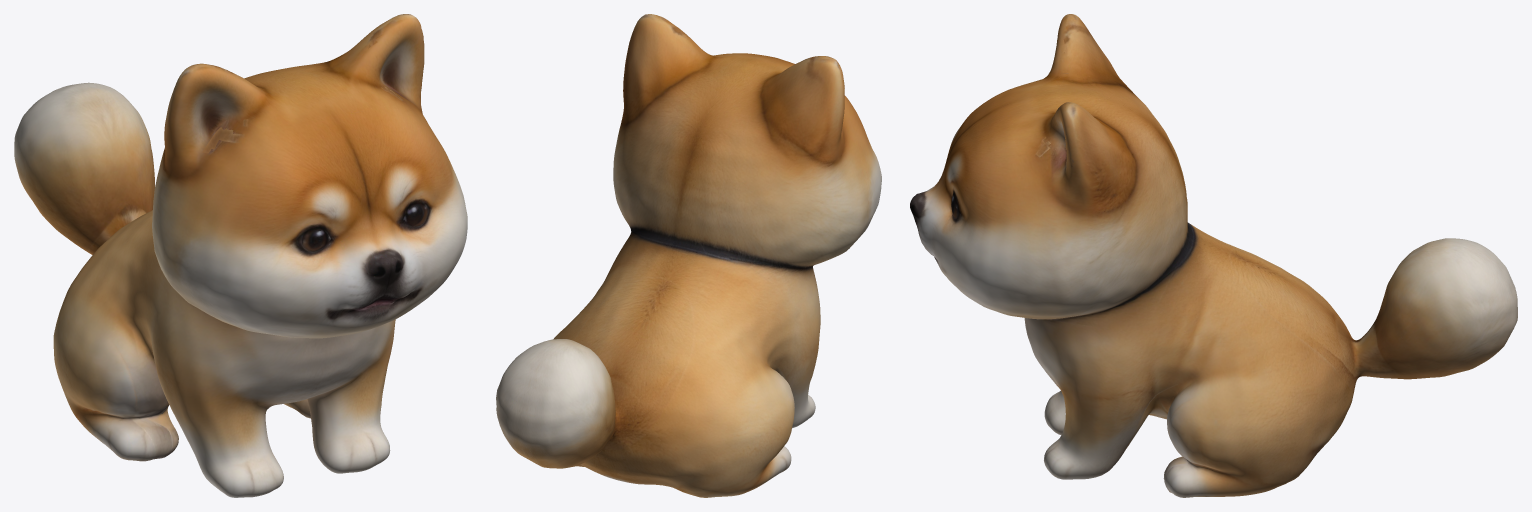
The model's file is dog1.glb.
3 views of the same model, side by side, from view 1: azimuth 30°, elevation 25°; view 2: azimuth 150°, elevation 25°; view 3: azimuth 270°, elevation 25° (orthographic). The views are drawn at different scales.
Size of the model in its own units: 0.9491 by 1.42 by 2.
1 material, 1 textured.
